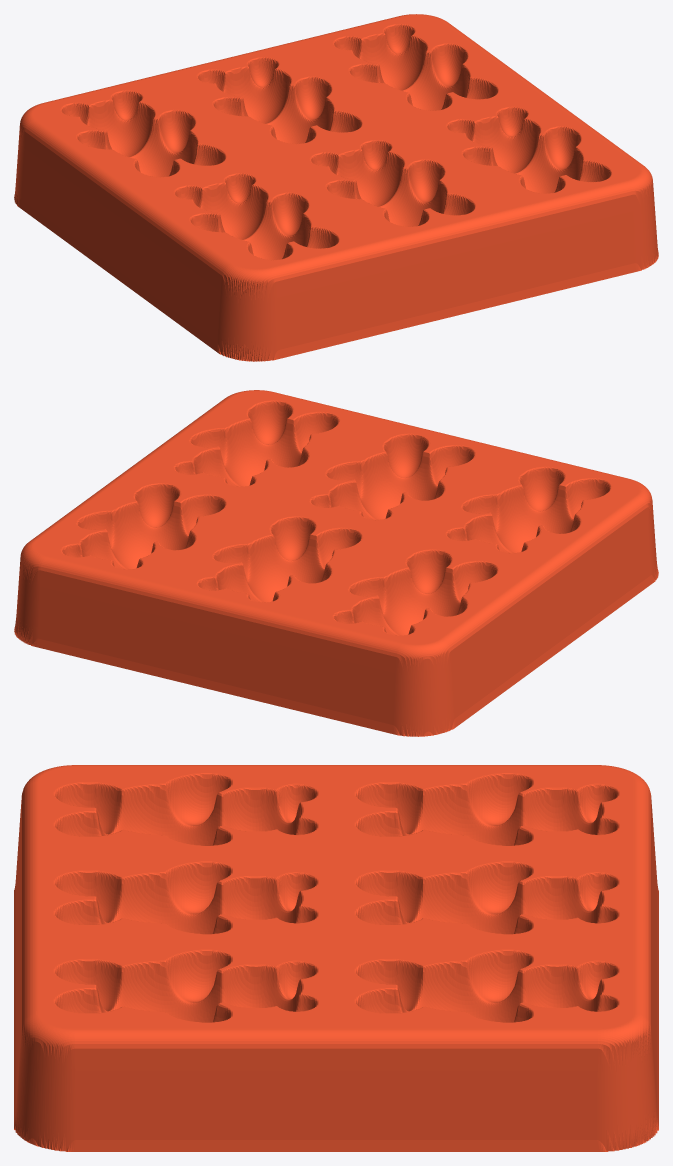
The model's file is mold.glb.
3 views of the same model, one above another, from view 1: azimuth 30°, elevation 25°; view 2: azimuth 150°, elevation 25°; view 3: azimuth 270°, elevation 25° (orthographic). The views are drawn at different scales.
Parts seen in each view (by area): view 1: geometry_0; view 2: geometry_0; view 3: geometry_0.
Part boxes in pixels (x1,y1,x2,y2): geometry_0: (14, 14, 658, 361); geometry_0: (14, 390, 658, 736); geometry_0: (14, 765, 658, 1151).
Bounding box in the file's own units: 0.0984 × 0.0182 × 0.0947.
